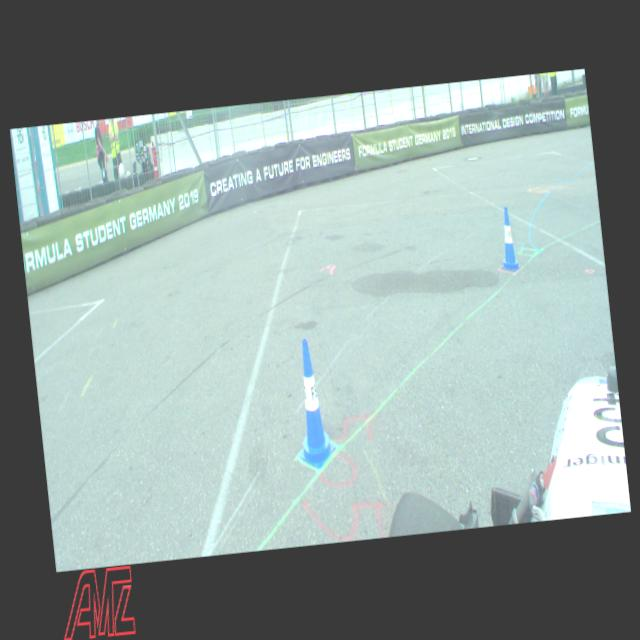blue_cone: (287, 336, 337, 469), (495, 206, 521, 272)
